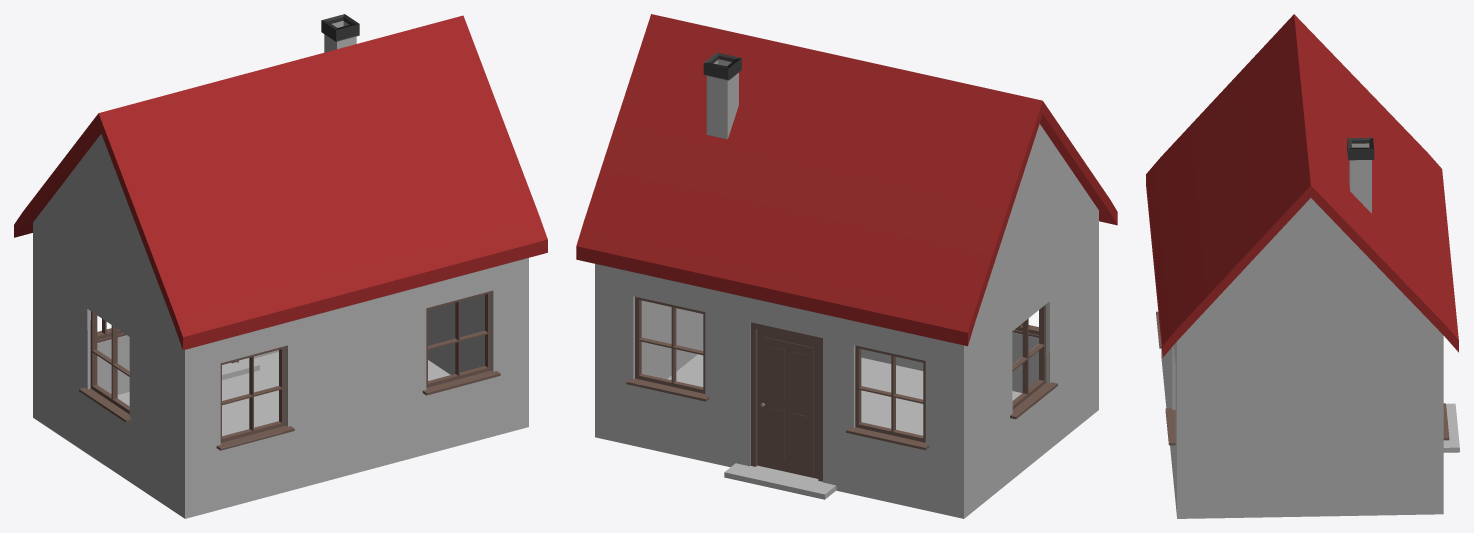
File: RedRoofHouse.fbx
3 views of the same model, side by side, from view 1: azimuth 30°, elevation 25°; view 2: azimuth 150°, elevation 25°; view 3: azimuth 270°, elevation 25° (orthographic). The views are drawn at different scales.
Visible parts, largest first — view 1: House; view 2: House; view 3: House.
Boxes of the visible parts, x1,y1,x2,y2 form: House: (14, 14, 547, 518); House: (576, 14, 1117, 518); House: (1146, 14, 1459, 518).
Bounding box in the file's own units: 10838 × 9747 × 8143.
